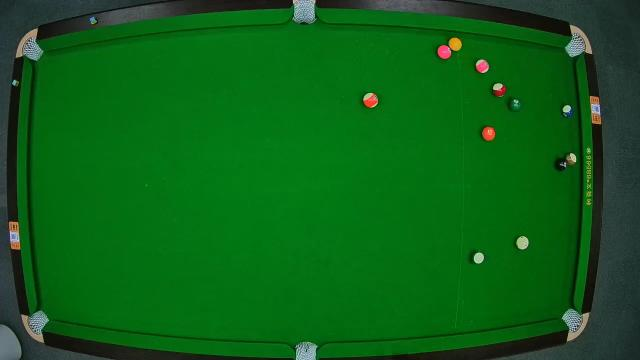bag1: (22, 38, 44, 60)
bag2: (291, 0, 317, 26)
bag3: (566, 29, 588, 57)
bag4: (29, 310, 49, 334)
bag5: (294, 340, 318, 360)
bag6: (563, 308, 585, 332)
ball0: (516, 236, 528, 250)
ball1: (449, 37, 463, 51)
ball10: (561, 104, 575, 118)
ball11: (492, 82, 506, 98)
ball12: (476, 58, 488, 74)
ball13: (364, 92, 380, 108)
ball14: (472, 251, 484, 265)
ball15: (566, 152, 578, 166)
ball4: (437, 44, 453, 60)
ball5: (482, 126, 496, 140)
ball6: (509, 94, 525, 109)
ball8: (554, 156, 570, 172)
